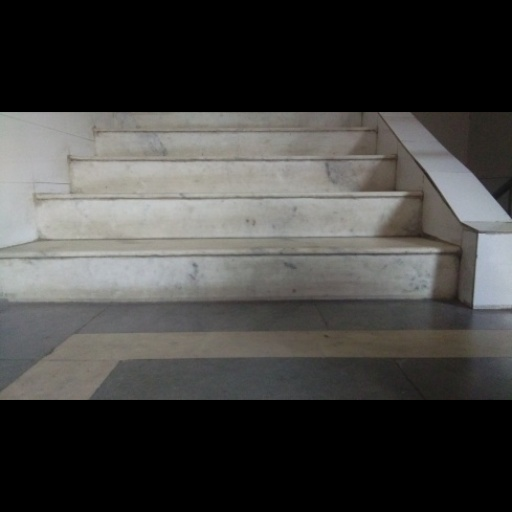Stairs: (0, 114, 460, 302)
